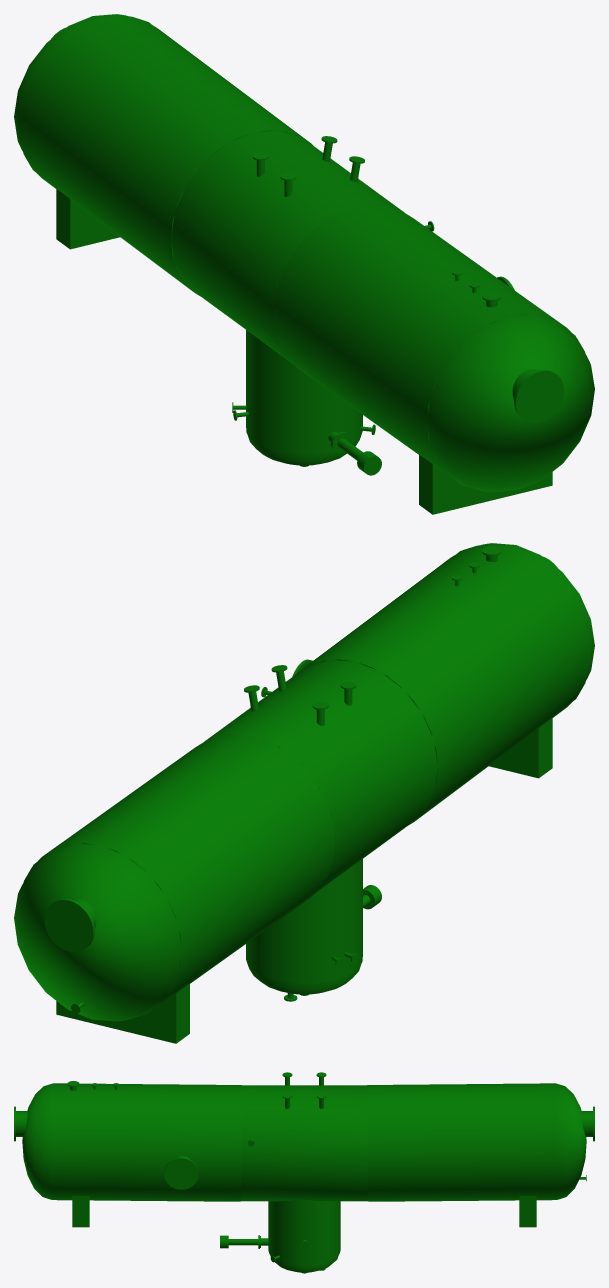
The model's file is Image-1711348185316-2281129860528_43-VD50.fbx.
3 views of the same model, one above another, from view 1: azimuth 30°, elevation 25°; view 2: azimuth 150°, elevation 25°; view 3: azimuth 270°, elevation 25° (orthographic). The views are drawn at different scales.
Parts seen in each view (by area): view 1: CYLINDER 3 of SUBEQUIPMENT /43-VD50/PRIM, CYLINDER 2 of SUBEQUIPMENT /43-VD50/PRIM, SLCYLINDER 1 of SUBEQUIPMENT /43-VD50/PRIM, DISH 2 of SUBEQUIPMENT /43-VD50/PRIM, CYLINDER 1 of SUBEQUIPMENT /43-VD50/PRIM, BOX 2 of SUBEQUIPMENT /43-VD50/SADDLE, /43-VD50/N1, BOX 1 of SUBEQUIPMENT /43-VD50/SADDLE, DISH 1 of SUBEQUIPMENT /43-VD50/PRIM, DISH 3 of SUBEQUIPMENT /43-VD50/PRIM; view 2: CYLINDER 2 of SUBEQUIPMENT /43-VD50/PRIM, CYLINDER 3 of SUBEQUIPMENT /43-VD50/PRIM, SLCYLINDER 1 of SUBEQUIPMENT /43-VD50/PRIM, DISH 3 of SUBEQUIPMENT /43-VD50/PRIM, CYLINDER 1 of SUBEQUIPMENT /43-VD50/PRIM, BOX 1 of SUBEQUIPMENT /43-VD50/SADDLE, /43-VD50/N2, BOX 2 of SUBEQUIPMENT /43-VD50/SADDLE, DISH 1 of SUBEQUIPMENT /43-VD50/PRIM, DISH 2 of SUBEQUIPMENT /43-VD50/PRIM; view 3: CYLINDER 3 of SUBEQUIPMENT /43-VD50/PRIM, CYLINDER 2 of SUBEQUIPMENT /43-VD50/PRIM, SLCYLINDER 1 of SUBEQUIPMENT /43-VD50/PRIM, CYLINDER 1 of SUBEQUIPMENT /43-VD50/PRIM, DISH 2 of SUBEQUIPMENT /43-VD50/PRIM, DISH 3 of SUBEQUIPMENT /43-VD50/PRIM, /43-VD50/M1, BOX 1 of SUBEQUIPMENT /43-VD50/SADDLE, BOX 2 of SUBEQUIPMENT /43-VD50/SADDLE, DISH 1 of SUBEQUIPMENT /43-VD50/PRIM, /43-VD50/N1, /43-VD50/N2.
Boxes of the visible parts, bbox=[...] form: CYLINDER 3 of SUBEQUIPMENT /43-VD50/PRIM: bbox=[17, 15, 313, 296]; CYLINDER 2 of SUBEQUIPMENT /43-VD50/PRIM: bbox=[274, 205, 585, 490]; SLCYLINDER 1 of SUBEQUIPMENT /43-VD50/PRIM: bbox=[171, 130, 404, 364]; DISH 2 of SUBEQUIPMENT /43-VD50/PRIM: bbox=[426, 314, 594, 492]; CYLINDER 1 of SUBEQUIPMENT /43-VD50/PRIM: bbox=[246, 330, 362, 453]; BOX 2 of SUBEQUIPMENT /43-VD50/SADDLE: bbox=[419, 454, 552, 514]; /43-VD50/N1: bbox=[512, 369, 564, 422]; BOX 1 of SUBEQUIPMENT /43-VD50/SADDLE: bbox=[56, 189, 119, 249]; DISH 1 of SUBEQUIPMENT /43-VD50/PRIM: bbox=[247, 435, 361, 465]; DISH 3 of SUBEQUIPMENT /43-VD50/PRIM: bbox=[14, 14, 151, 171]; CYLINDER 2 of SUBEQUIPMENT /43-VD50/PRIM: bbox=[295, 544, 591, 825]; CYLINDER 3 of SUBEQUIPMENT /43-VD50/PRIM: bbox=[23, 734, 334, 1019]; SLCYLINDER 1 of SUBEQUIPMENT /43-VD50/PRIM: bbox=[204, 659, 437, 893]; DISH 3 of SUBEQUIPMENT /43-VD50/PRIM: bbox=[14, 843, 182, 1021]; CYLINDER 1 of SUBEQUIPMENT /43-VD50/PRIM: bbox=[246, 859, 362, 982]; BOX 1 of SUBEQUIPMENT /43-VD50/SADDLE: bbox=[56, 983, 189, 1043]; /43-VD50/N2: bbox=[44, 898, 96, 951]; BOX 2 of SUBEQUIPMENT /43-VD50/SADDLE: bbox=[489, 718, 552, 778]; DISH 1 of SUBEQUIPMENT /43-VD50/PRIM: bbox=[247, 964, 361, 994]; DISH 2 of SUBEQUIPMENT /43-VD50/PRIM: bbox=[458, 543, 594, 700]; CYLINDER 3 of SUBEQUIPMENT /43-VD50/PRIM: bbox=[367, 1083, 557, 1201]; CYLINDER 2 of SUBEQUIPMENT /43-VD50/PRIM: bbox=[51, 1083, 241, 1201]; SLCYLINDER 1 of SUBEQUIPMENT /43-VD50/PRIM: bbox=[240, 1085, 368, 1201]; CYLINDER 1 of SUBEQUIPMENT /43-VD50/PRIM: bbox=[268, 1200, 340, 1265]; DISH 2 of SUBEQUIPMENT /43-VD50/PRIM: bbox=[22, 1083, 52, 1199]; DISH 3 of SUBEQUIPMENT /43-VD50/PRIM: bbox=[556, 1083, 586, 1199]; /43-VD50/M1: bbox=[164, 1155, 198, 1189]; BOX 1 of SUBEQUIPMENT /43-VD50/SADDLE: bbox=[519, 1196, 536, 1227]; BOX 2 of SUBEQUIPMENT /43-VD50/SADDLE: bbox=[72, 1196, 89, 1227]; DISH 1 of SUBEQUIPMENT /43-VD50/PRIM: bbox=[270, 1255, 338, 1272]; /43-VD50/N1: bbox=[14, 1106, 27, 1141]; /43-VD50/N2: bbox=[581, 1106, 594, 1141].
Size of the model in its own units: 3.08 by 13.62 by 4.9.
